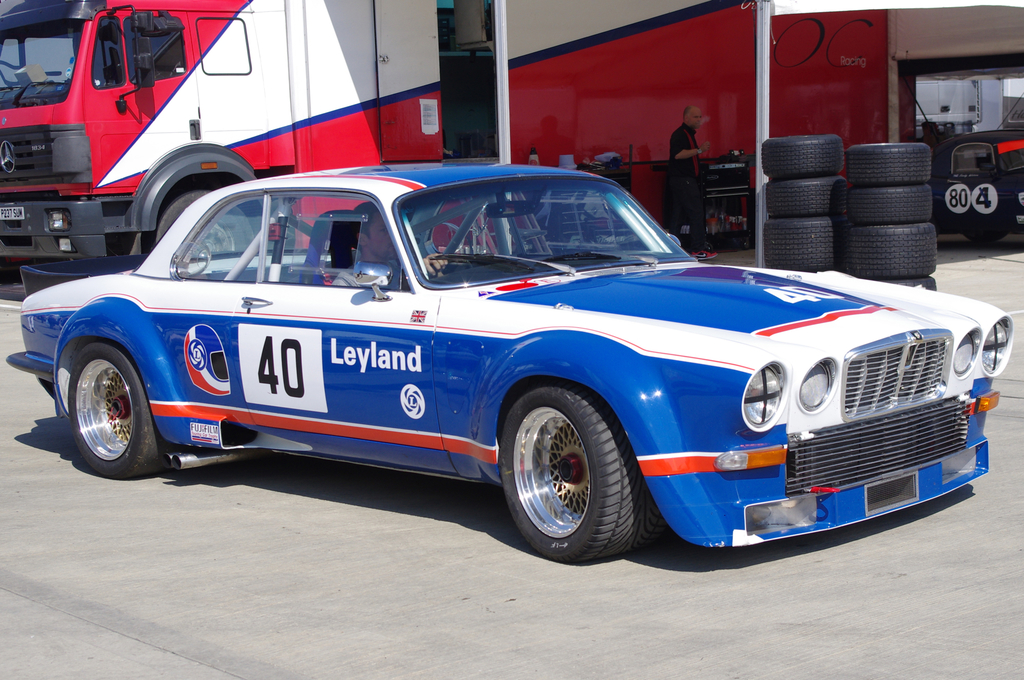Car: (45, 148, 1024, 553), (927, 126, 1023, 244)
